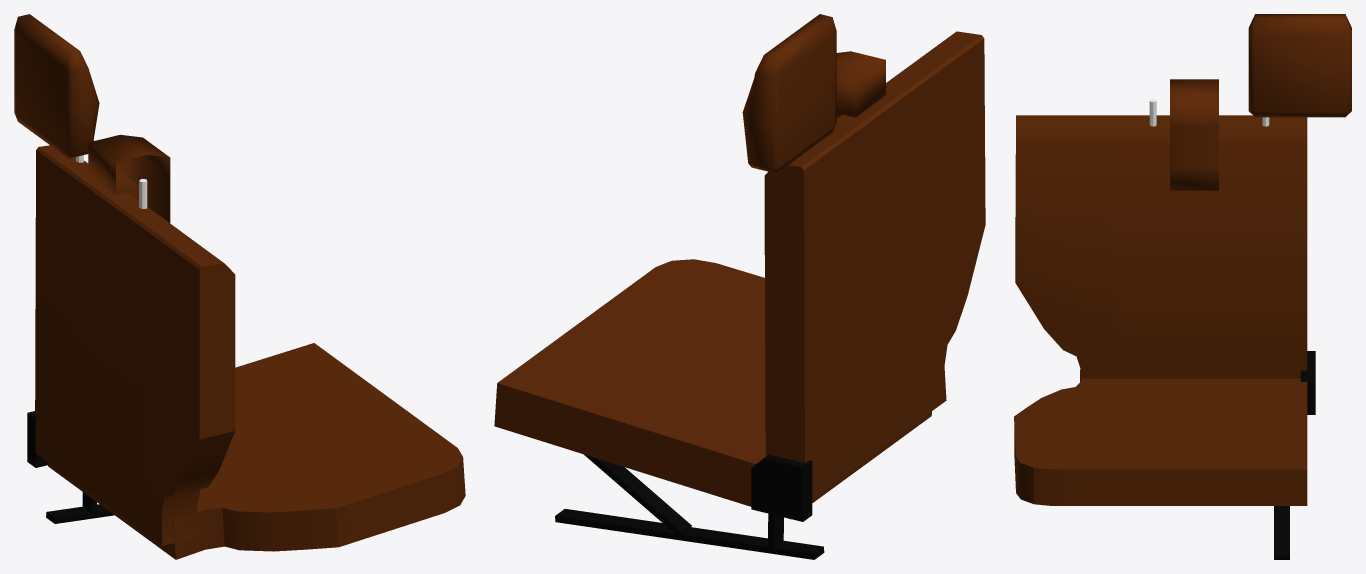
File: SEAT RR2 C8ALD.glb
3 renders of one model, left to right at view 1: azimuth 30°, elevation 25°; view 2: azimuth 150°, elevation 25°; view 3: azimuth 270°, elevation 25°, orthographic. The views are drawn at different scales.
Visible parts, largest first — view 1: Cube.001, Cube, Cube.005, Cube.004, Cube.003, Cube.002; view 2: Cube.001, Cube, Cube.005, Cube.003, Cube.002, Cube.004; view 3: Cube.001, Cube, Cube.005, Cube.004, Cube.003, Cube.002.
Boxes of the visible parts, x1,y1,x2,y2 form: Cube.001: [35, 145, 235, 545]; Cube: [48, 343, 465, 559]; Cube.005: [14, 14, 99, 158]; Cube.004: [88, 134, 170, 222]; Cube.003: [46, 492, 114, 523]; Cube.002: [27, 411, 50, 467]; Cube.001: [764, 31, 985, 498]; Cube: [494, 259, 931, 519]; Cube.005: [742, 14, 836, 173]; Cube.003: [555, 454, 824, 559]; Cube.002: [751, 454, 812, 521]; Cube.004: [836, 51, 885, 118]; Cube.001: [1015, 115, 1307, 380]; Cube: [1014, 369, 1307, 505]; Cube.005: [1248, 14, 1351, 117]; Cube.004: [1170, 79, 1218, 190]; Cube.003: [1274, 506, 1289, 559]; Cube.002: [1300, 351, 1315, 414].
Size of the model in its own units: 3.52 by 5.91 by 4.06.
